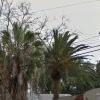Tree: (45, 34, 96, 93)
